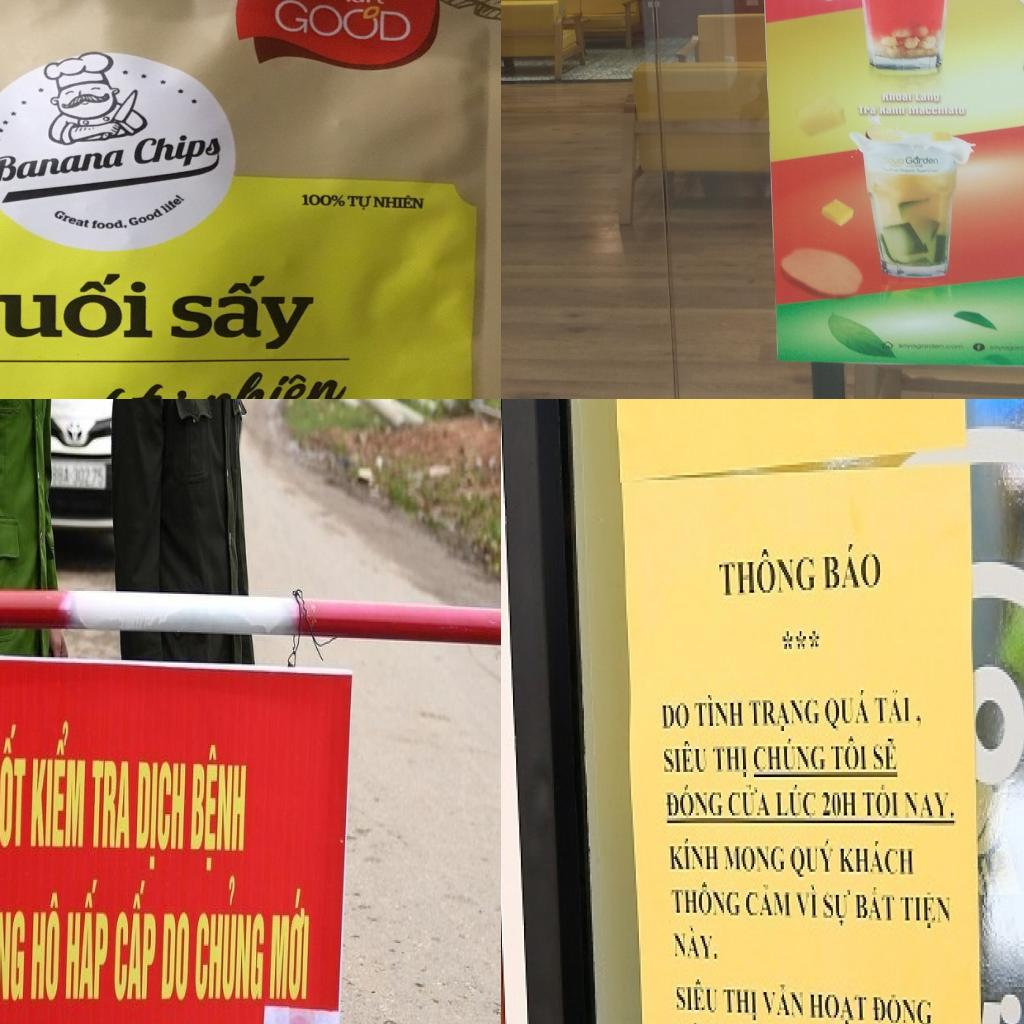text: (165, 272, 321, 354), (0, 269, 154, 340), (194, 876, 267, 1003), (30, 720, 88, 852), (190, 744, 248, 876), (274, 0, 413, 45), (66, 880, 112, 1005), (718, 547, 818, 603), (136, 763, 186, 874), (114, 882, 158, 1004), (196, 364, 348, 399), (0, 146, 126, 186), (268, 889, 312, 1003), (0, 720, 32, 852), (131, 129, 221, 175), (89, 761, 130, 852), (30, 893, 62, 1006), (822, 539, 885, 595), (838, 838, 916, 880), (752, 736, 828, 777), (748, 695, 822, 736), (0, 887, 26, 1003), (669, 880, 743, 920), (160, 914, 191, 1004), (823, 685, 872, 736), (664, 782, 726, 821), (872, 687, 924, 731), (899, 890, 952, 933), (744, 879, 794, 923), (789, 836, 836, 882), (809, 989, 870, 1024), (723, 844, 787, 877), (667, 836, 721, 874), (693, 693, 746, 731), (672, 923, 721, 964), (663, 738, 710, 780), (872, 992, 933, 1024), (675, 976, 721, 1018), (760, 982, 806, 1023), (727, 782, 775, 821), (855, 882, 897, 926), (904, 787, 958, 821), (775, 782, 820, 821), (711, 741, 751, 782), (720, 984, 760, 1024), (125, 378, 200, 399), (830, 734, 869, 774), (861, 782, 901, 821), (820, 884, 853, 930), (781, 626, 823, 657), (820, 787, 858, 821), (52, 465, 105, 487), (872, 736, 901, 775), (661, 700, 693, 734), (794, 882, 820, 923), (372, 192, 427, 211), (127, 206, 165, 229), (52, 208, 91, 230), (158, 192, 188, 216), (298, 193, 348, 207), (908, 106, 966, 116), (897, 343, 965, 350), (91, 218, 130, 230), (348, 194, 374, 212), (881, 92, 913, 102), (905, 156, 940, 165), (915, 92, 940, 103), (987, 344, 1024, 351), (879, 106, 905, 115), (882, 156, 905, 166), (856, 105, 876, 115)
